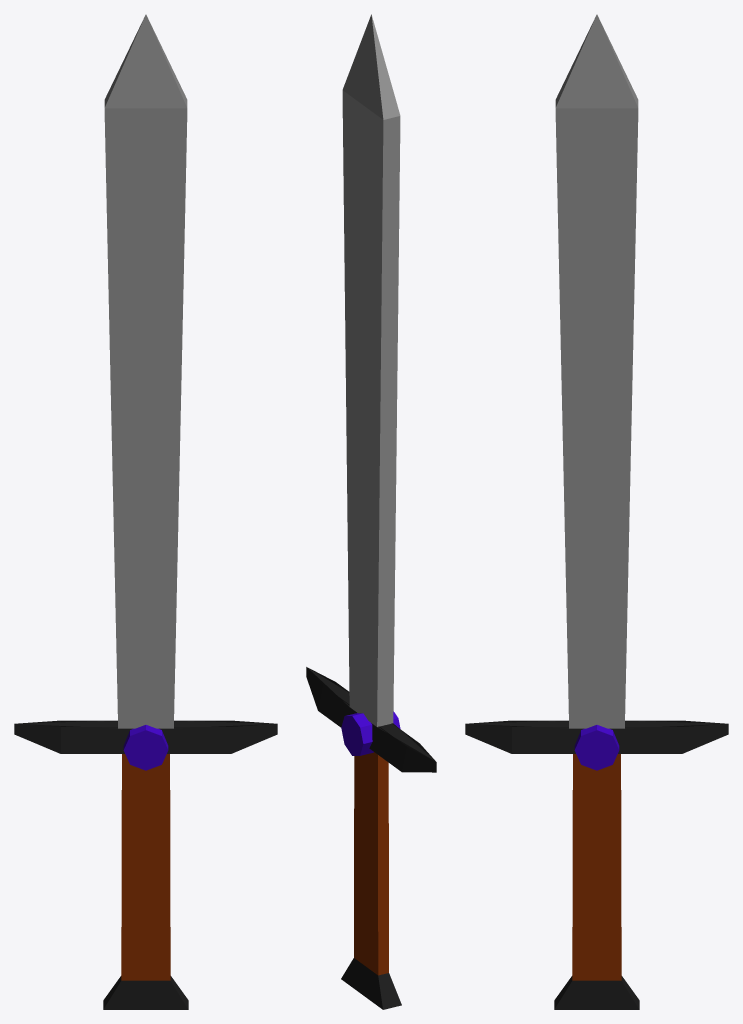
The model's file is excalibur.obj.
3 renders of one model, left to right at view 1: azimuth 90°, elevation 25°; view 2: azimuth 210°, elevation 25°; view 3: azimuth 270°, elevation 25°, orthographic.
Parts seen in each view (by area): view 1: excalibur; view 2: excalibur; view 3: excalibur.
Part boxes in pixels (x1,y1,x2,y2): excalibur: (14, 14, 277, 1009); excalibur: (306, 14, 436, 1009); excalibur: (465, 14, 728, 1009).
Bounding box in the file's own units: 0.0199 × 0.4866 × 0.1172.
